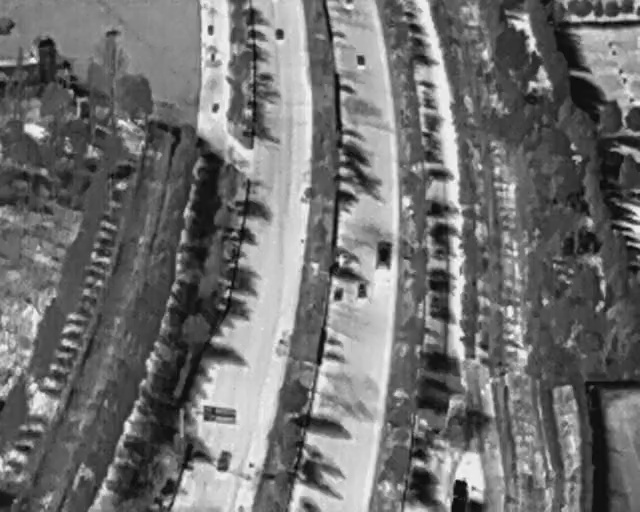Car: (215, 450, 231, 474), (333, 285, 343, 303), (357, 280, 367, 298), (275, 27, 284, 41), (356, 54, 365, 68)
OtherVehicle: (374, 240, 392, 268)
